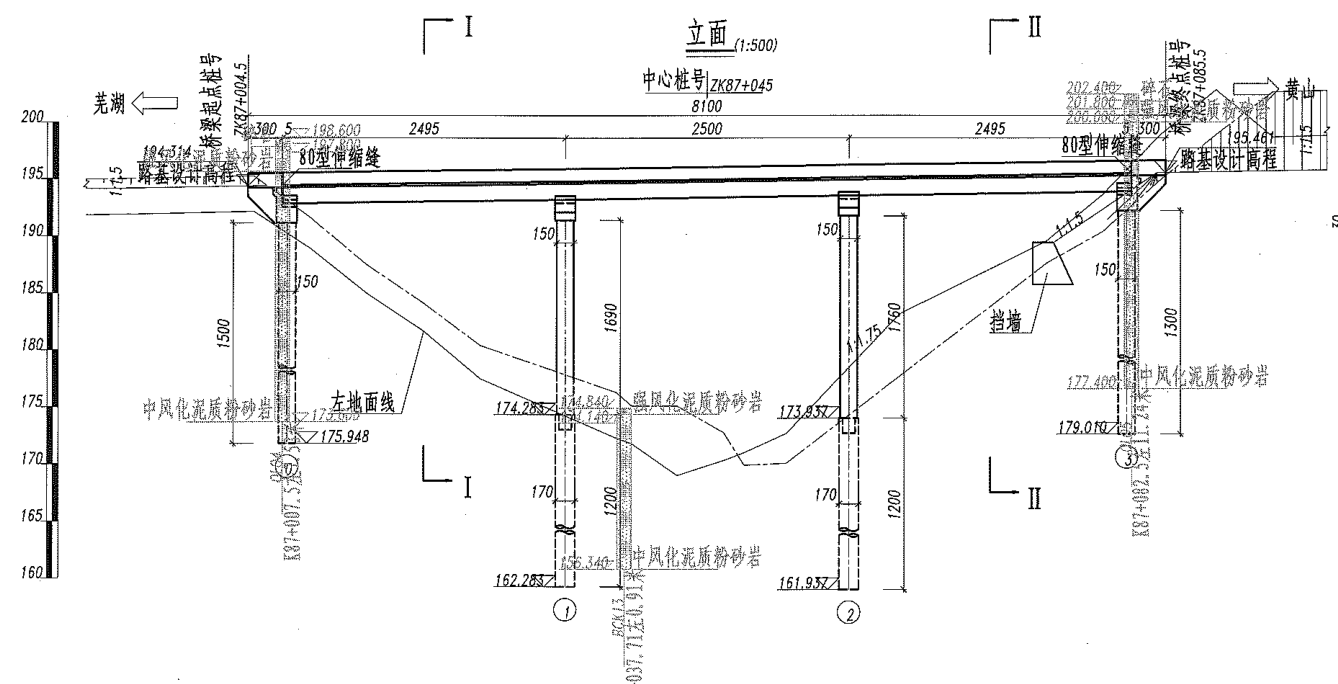C: (757, 186, 893, 634), (479, 186, 593, 630), (1055, 178, 1152, 478)
